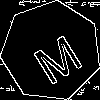M: (26, 26, 86, 87)
